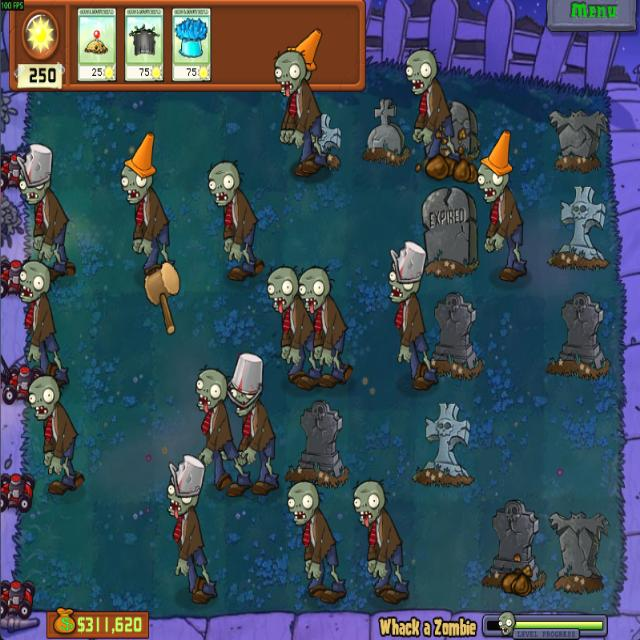buckethead: (224, 352, 266, 417)
conehead: (474, 129, 516, 204), (118, 130, 157, 204), (284, 28, 322, 95)
damaged_buckethead: (162, 454, 206, 518), (385, 240, 424, 304), (16, 144, 56, 206)
grave: (483, 497, 548, 592), (544, 290, 610, 380), (416, 185, 476, 278), (419, 294, 483, 379), (549, 506, 610, 595), (415, 401, 477, 486), (285, 400, 349, 482), (548, 184, 608, 270), (548, 106, 610, 174), (422, 98, 480, 160), (360, 97, 411, 166), (299, 108, 341, 173)
gravebuster: (123, 7, 165, 83)
zombie: (204, 157, 243, 208), (351, 476, 389, 528), (400, 49, 439, 97), (262, 264, 300, 312), (296, 264, 332, 314), (27, 373, 64, 421), (192, 362, 229, 410), (271, 50, 307, 97), (286, 479, 320, 528), (17, 258, 51, 305)
